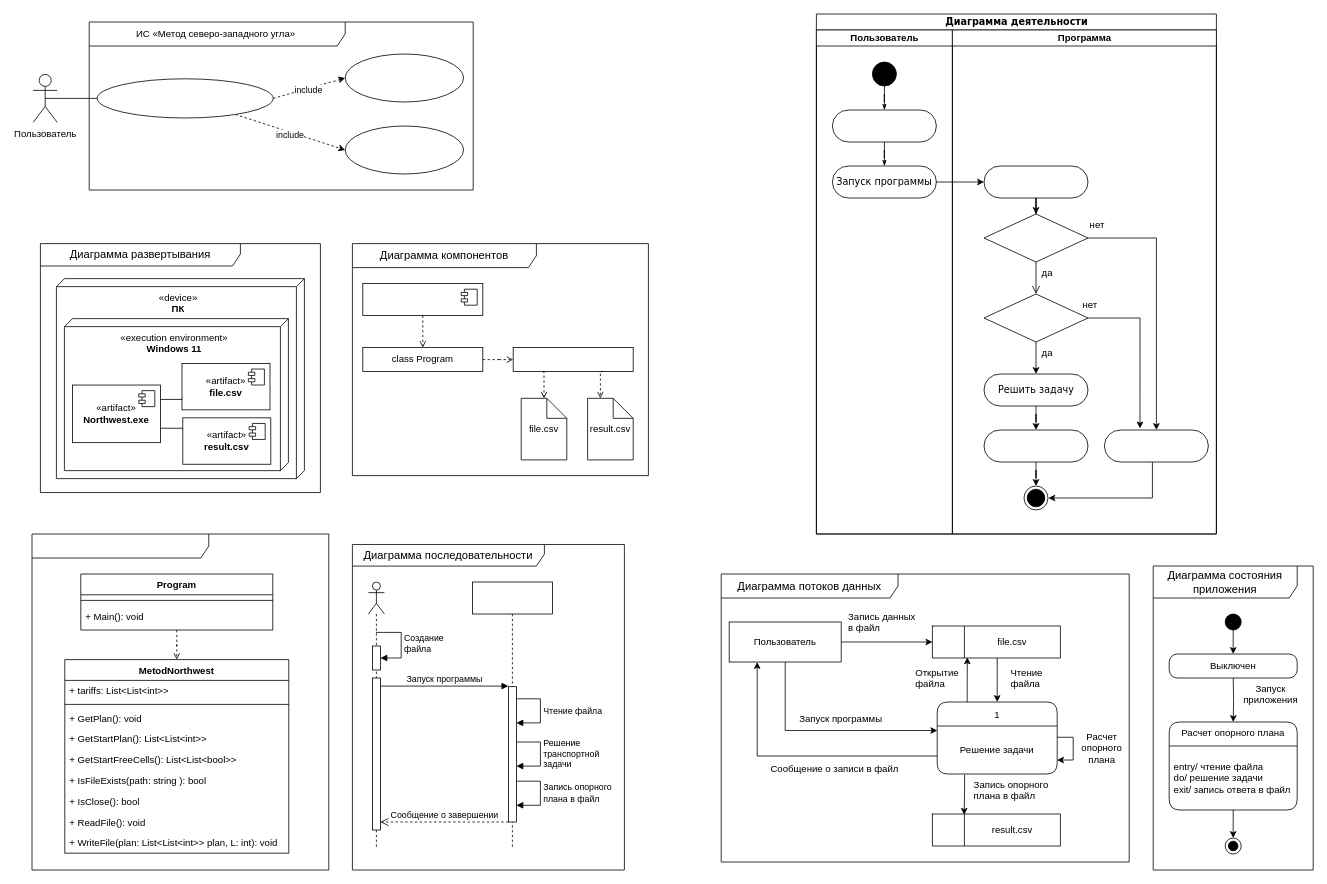
Image size: 1327x884. Some labels were removed from this diagram. The shapes that lost their labels are listed below. From the top down, each one's centre as x and y in pixels, then its label:
point (404, 77): Создать file.csv с матрицей перевозок
point (184, 98): Запустить программу, расчитывающую опорный план
point (884, 125): Создание файла с данными
point (404, 149): Получить опорный план в файл result.csv
point (1035, 181): Прочитать файл
point (1035, 237): Данные корректны
point (422, 299): Northwest.exe
point (1035, 317): Задача закрытая
point (572, 359): class MetodNorthwest
point (1035, 445): Записать опорный план в файл
point (1156, 445): Прервать работу
point (180, 701): Диаграмма класов
point (512, 714): :Приложение
